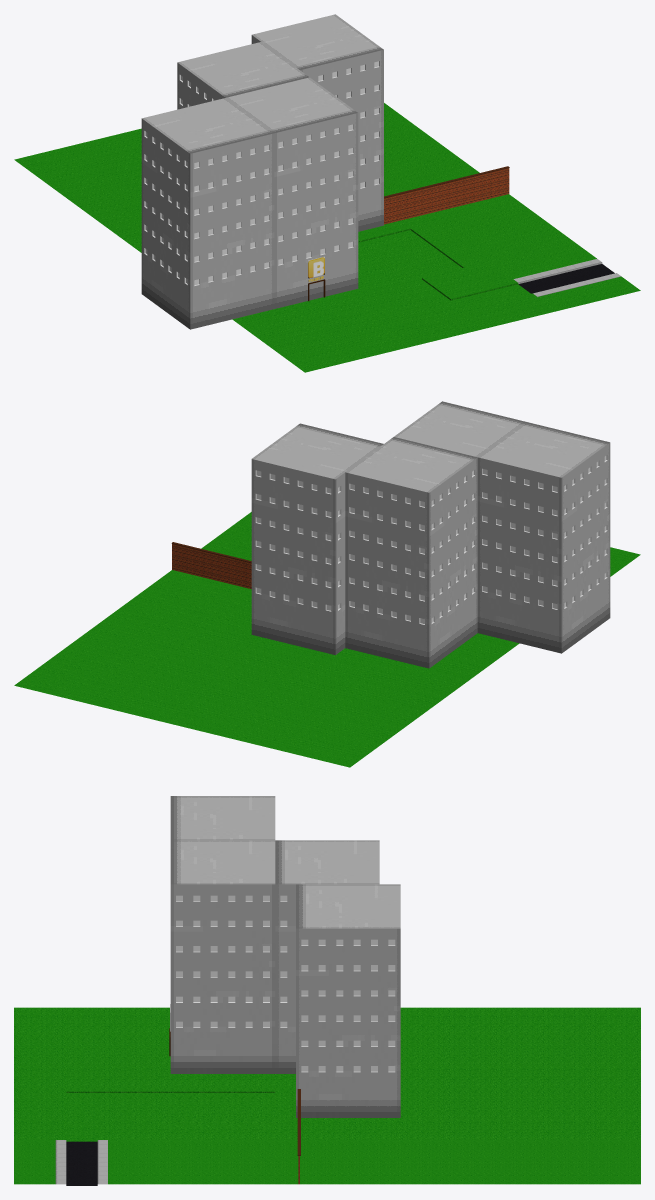
The model's file is FaceBeerOutside.fbx.
The picture shows the model from 3 angles, top to bottom: view 1: azimuth 30°, elevation 25°; view 2: azimuth 150°, elevation 25°; view 3: azimuth 270°, elevation 25°; orthographic projection. The views are drawn at different scales.
Visible parts, largest first — view 1: Cube, Plane_1, Cube_5, Plane_2, Cube_3, Plane, Cube_4, Cube_1; view 2: Plane, Cube, Cube_4, Cube_3, Plane_2, Cube_5, Cube_1, Plane_1; view 3: Plane, Plane_1, Plane_2, Cube_5, Cube_3, Cube_4, Cube.
Part boxes in pixels (box(x1,y1,x2,y2)): Cube: box(141, 98, 274, 329); Plane_1: box(232, 214, 556, 372); Cube_5: box(226, 77, 358, 308); Plane_2: box(384, 103, 640, 310); Cube_3: box(251, 14, 383, 231); Plane: box(14, 128, 395, 252); Cube_4: box(177, 42, 309, 109); Cube_1: box(384, 168, 509, 224); Plane: box(98, 599, 494, 767); Cube: box(477, 422, 610, 653); Cube_4: box(345, 437, 477, 668); Cube_3: box(251, 423, 383, 655); Plane_2: box(14, 512, 251, 705); Cube_5: box(394, 401, 525, 457); Cube_1: box(172, 544, 251, 588); Plane_1: box(244, 547, 640, 660); Plane: box(327, 1007, 640, 1139); Plane_1: box(14, 1007, 327, 1141); Plane_2: box(14, 1140, 640, 1185); Cube_5: box(170, 840, 275, 1073); Cube_3: box(296, 884, 400, 1117); Cube_4: box(275, 840, 379, 1073); Cube: box(170, 796, 275, 840).
Size of the model in its own units: 13510 by 6050 by 18000.
Materials: 14 (9 with a texture image).
